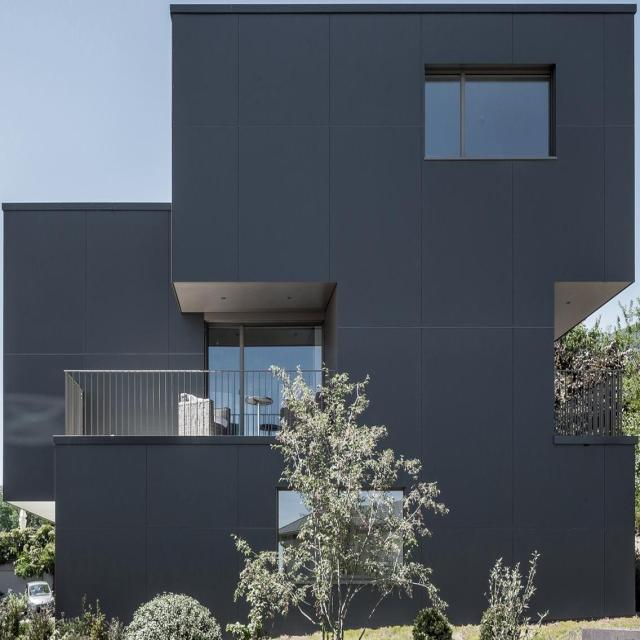railing: (62, 369, 334, 441), (555, 372, 623, 439)
window: (425, 64, 552, 154), (204, 322, 324, 370)
